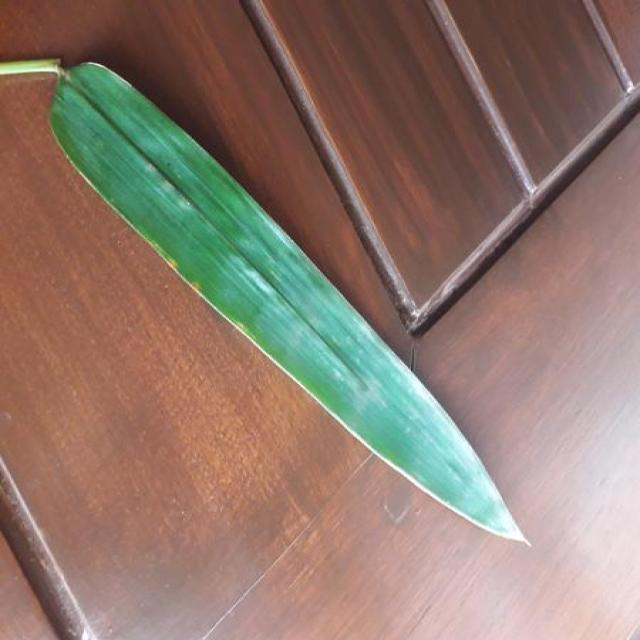Bamboo: (52, 64, 525, 541)
